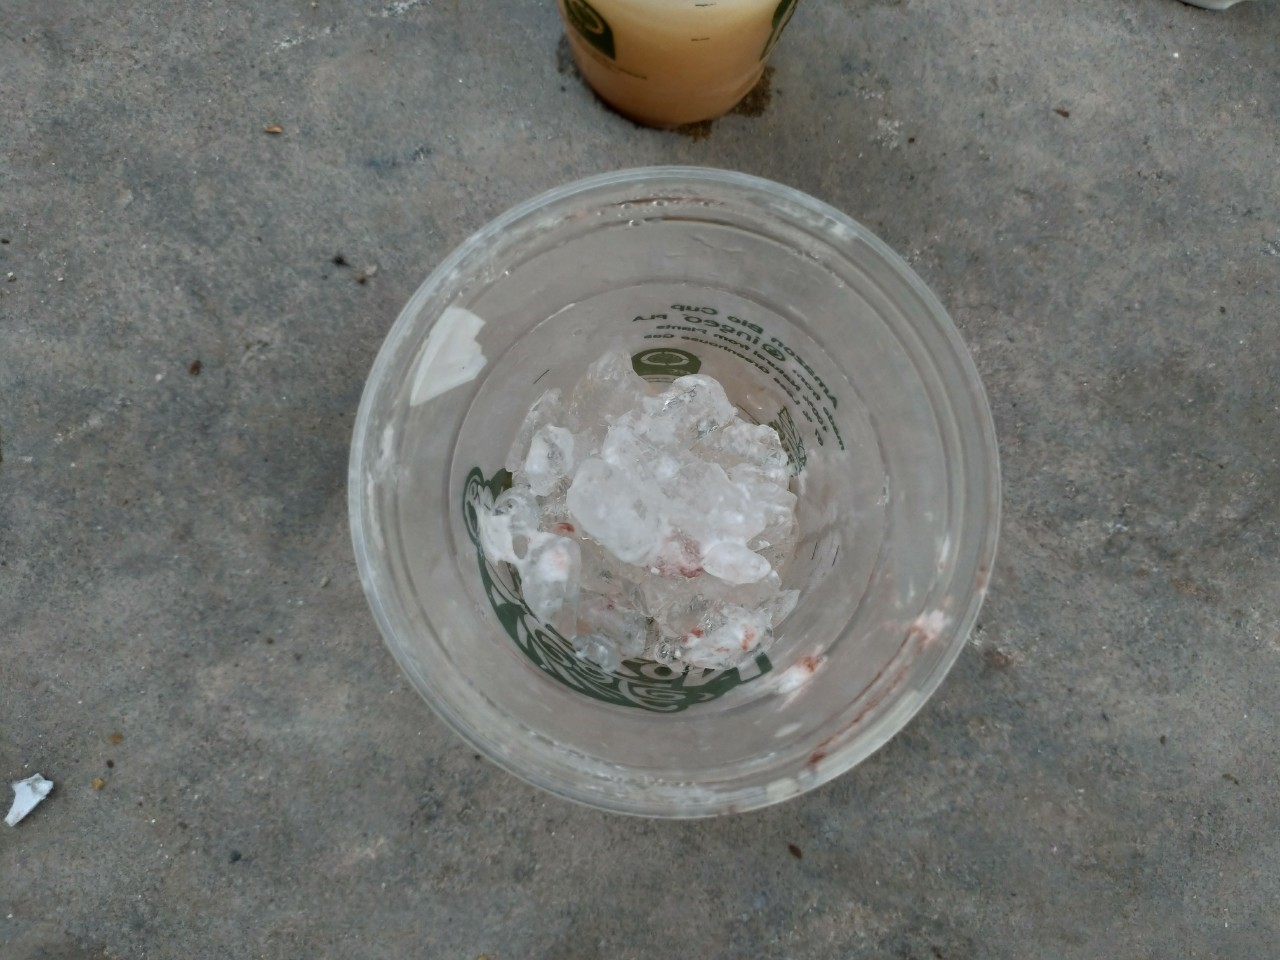PlasticCup: (346, 161, 1002, 821), (555, 1, 783, 149)
